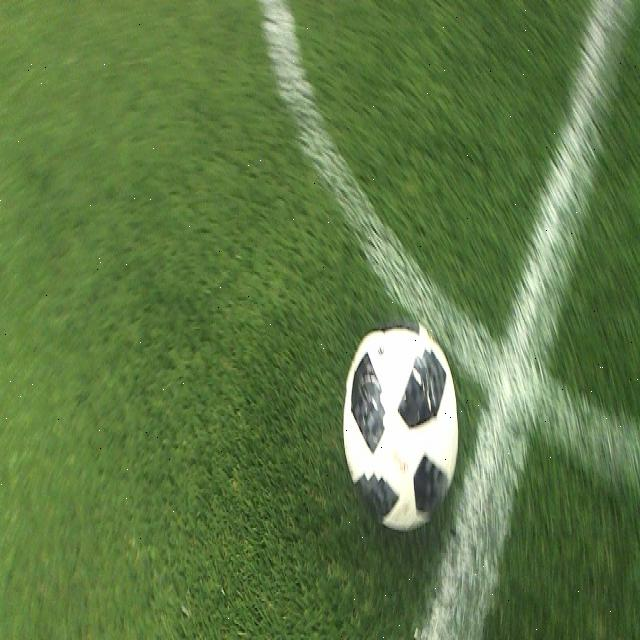ball: (340, 324, 459, 532)
